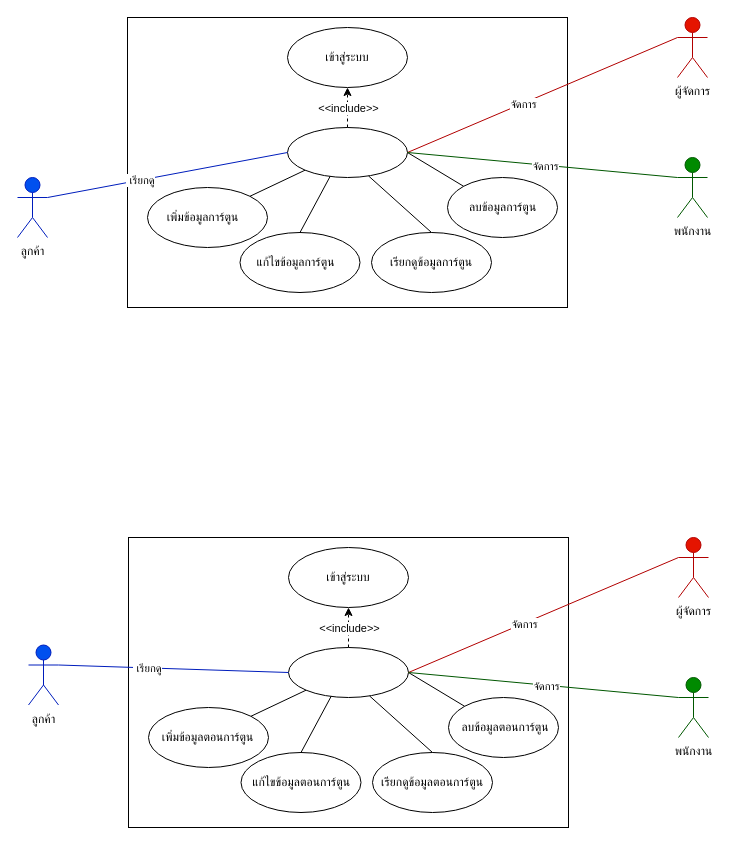
This 730x845 diagram has some shape labels left out. Each missing label, with the centre of its shape:
"ข้อมูลการ์ตูน" belongs at point (347, 152).
"ข้อมูลตอนการ์ตูน" belongs at point (348, 672).
